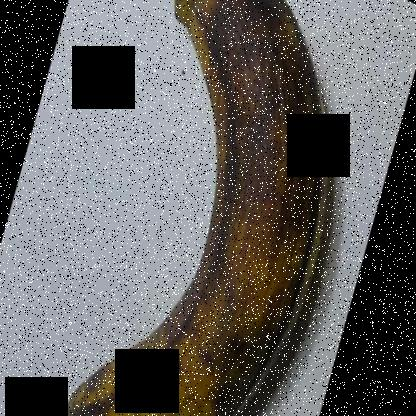overripe: (59, 1, 336, 416)
